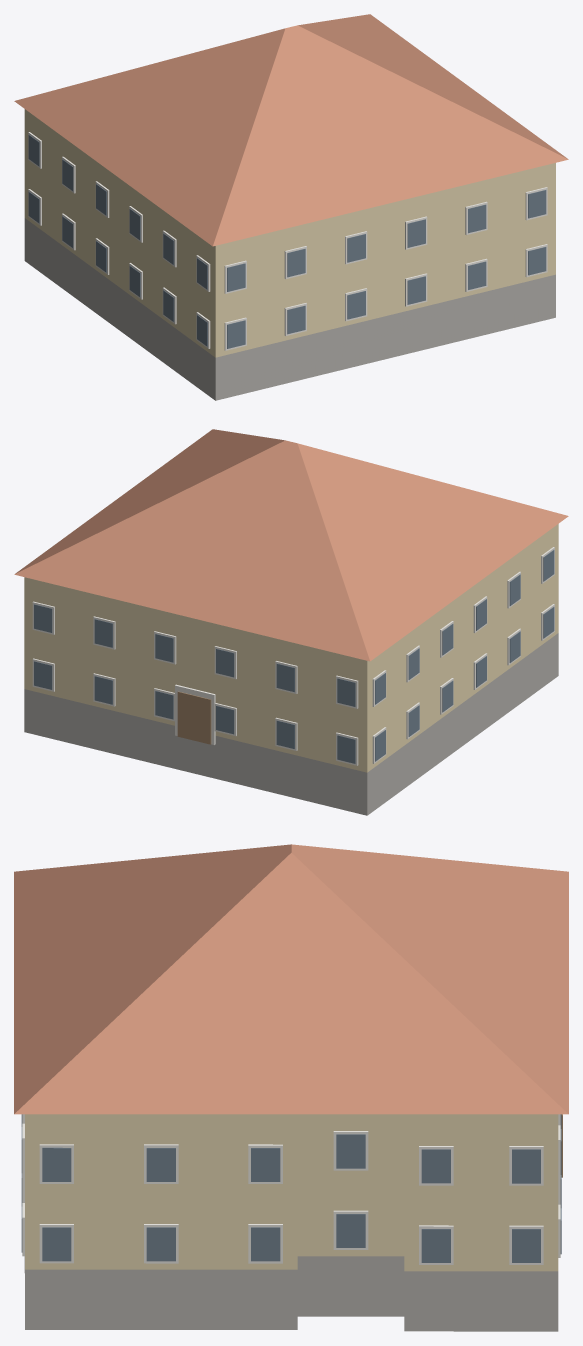
The model's file is civic-436214915.glb.
The picture shows the model from 3 angles, top to bottom: view 1: azimuth 30°, elevation 25°; view 2: azimuth 150°, elevation 25°; view 3: azimuth 270°, elevation 25°; orthographic projection. The views are drawn at different scales.
Visible parts, largest first — view 1: building; view 2: building; view 3: building.
Boxes of the visible parts, x1,y1,x2,y2 form: building: (14, 14, 568, 400); building: (14, 429, 568, 815); building: (14, 844, 568, 1331).
Size of the model in its own units: 21.61 by 15.2 by 20.88.
